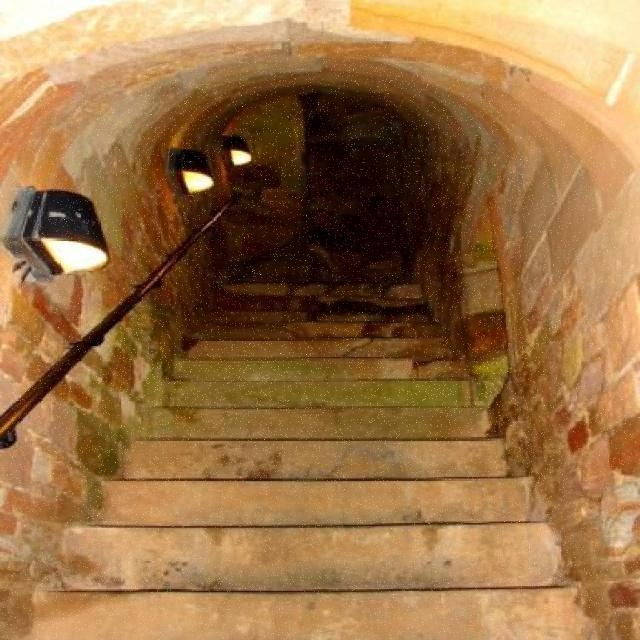stair: (36, 87, 582, 638)
